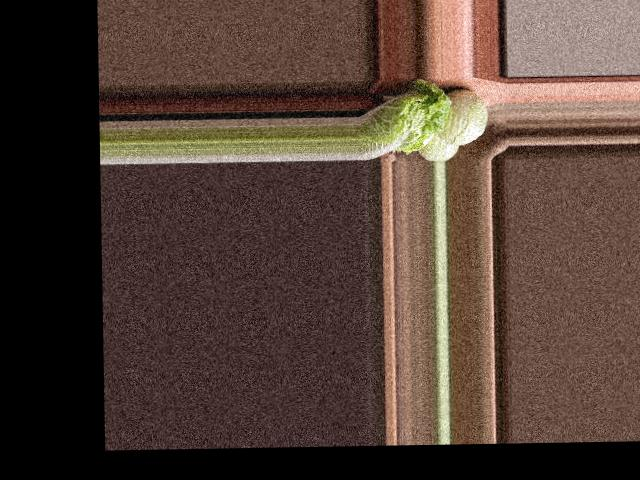lettuce: (360, 76, 452, 157)
